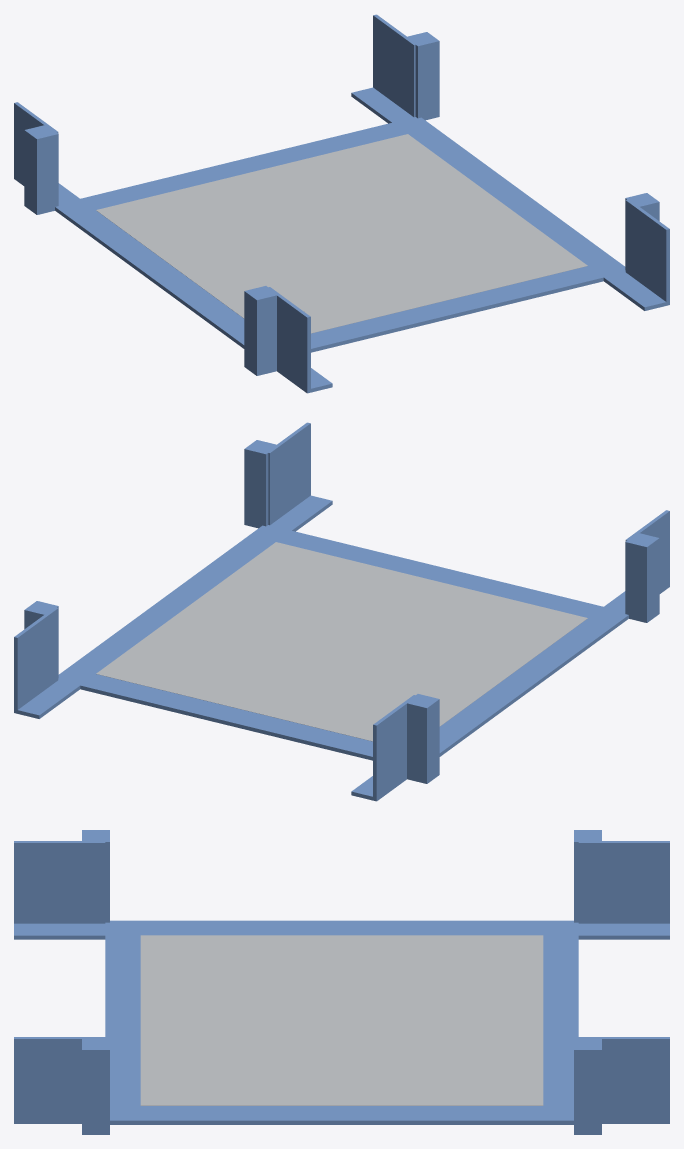
The model's file is Junction.fbx.
3 renders of one model, top to bottom at view 1: azimuth 30°, elevation 25°; view 2: azimuth 150°, elevation 25°; view 3: azimuth 270°, elevation 25°, orthographic. The views are drawn at different scales.
Parts seen in each view (by area): view 1: Inset, TrackPlate, LSN_Web_R, LSP_Web_R, CornerWeb_1, CornerWeb_0, LSN_Web_L, CornerWeb_3, LSP_Web_L, LSN_Track_R, LSP_Track_R, CornerWeb_2; view 2: Inset, TrackPlate, LSP_Web_R, LSN_Web_R, CornerWeb_0, CornerWeb_1, LSP_Web_L, CornerWeb_2, LSN_Web_L, LSP_Track_R, LSN_Track_R; view 3: Inset, TrackPlate, LSP_Web_L, LSN_Web_L, LSP_Web_R, LSN_Web_R, CornerWeb_2, CornerWeb_3, LSN_Track_L, LSP_Track_L, CornerWeb_0, CornerWeb_1.
Part boxes in pixels (x1,y1,x2,y2): Inset: (96, 134, 587, 333); TrackPlate: (55, 117, 625, 352); LSN_Web_R: (625, 199, 669, 305); LSP_Web_R: (373, 14, 416, 117); CornerWeb_1: (24, 125, 58, 214); CornerWeb_0: (244, 286, 278, 375); LSN_Web_L: (267, 287, 310, 393); CornerWeb_3: (405, 32, 439, 120); LSP_Web_L: (14, 102, 58, 185); LSN_Track_R: (603, 272, 668, 310); LSP_Track_R: (351, 87, 413, 123); CornerWeb_2: (625, 193, 659, 269); Inset: (96, 542, 587, 741); TrackPlate: (58, 525, 628, 760); LSP_Web_R: (14, 607, 58, 713); LSN_Web_R: (267, 422, 310, 525); CornerWeb_0: (625, 533, 659, 622); CornerWeb_1: (405, 694, 439, 783); LSP_Web_L: (373, 695, 415, 801); CornerWeb_2: (244, 440, 278, 528); LSN_Web_L: (625, 510, 669, 593); LSP_Track_R: (15, 680, 80, 718); LSN_Track_R: (270, 495, 332, 531); Inset: (140, 935, 543, 1105); TrackPlate: (105, 920, 578, 1124); LSP_Web_L: (578, 841, 669, 923); LSN_Web_L: (14, 841, 105, 923); LSP_Web_R: (578, 1037, 669, 1123); LSN_Web_R: (14, 1037, 105, 1123); CornerWeb_2: (82, 1038, 109, 1134); CornerWeb_3: (574, 1038, 601, 1134); LSN_Track_L: (14, 923, 105, 939); LSP_Track_L: (578, 923, 669, 939); CornerWeb_0: (82, 830, 109, 922); CornerWeb_1: (574, 830, 601, 922).
Size of the model in its own units: 1.11 by 0.2005 by 1.4.
